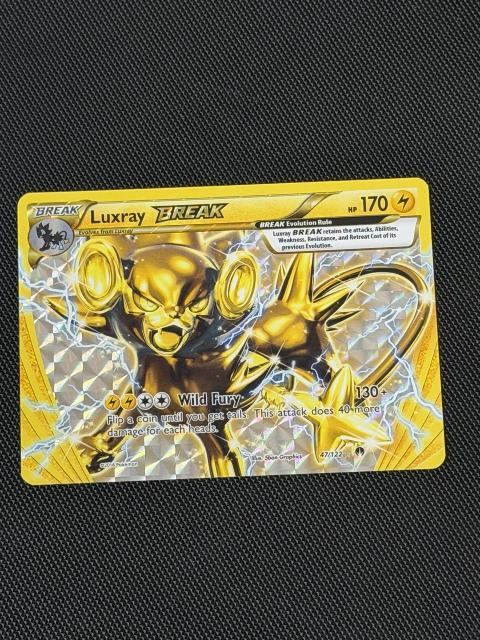Card: (11, 172, 452, 493)
Name: (88, 200, 232, 228)
